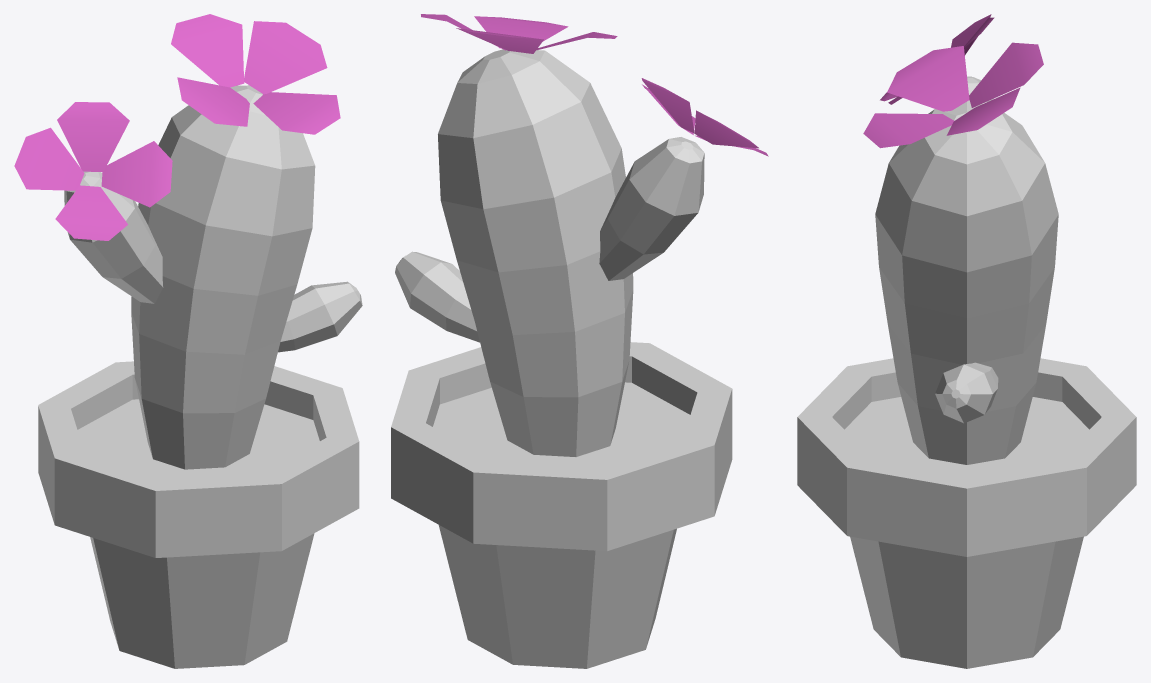
File: Cactus.fbx
3 views of the same model, side by side, from view 1: azimuth 30°, elevation 25°; view 2: azimuth 150°, elevation 25°; view 3: azimuth 270°, elevation 25° (orthographic). The views are drawn at different scales.
Visible parts, largest first — view 1: Circle.004; view 2: Circle.004; view 3: Circle.004.
Part boxes in pixels (left/top/right/bottom): Circle.004: left=14, top=14, right=362, bottom=668; Circle.004: left=391, top=14, right=768, bottom=668; Circle.004: left=797, top=14, right=1136, bottom=668.
Size of the model in its own units: 65.39 by 107 by 55.74.
